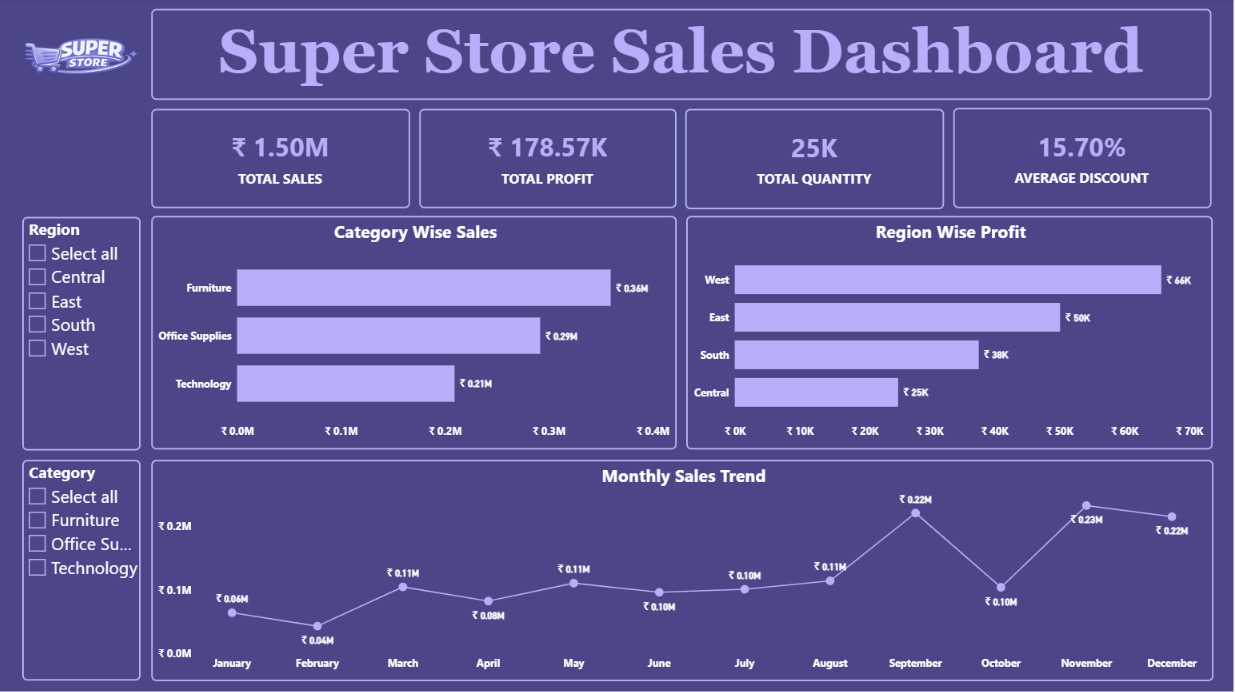

Layout of this report page (visuals, bound fields, positions):
{"tool":"powerbi","page":{"name":"Page 1","canvas":[1920,1080],"ordinal":0},"visuals":[{"type":"cardVisual","fields":{"Data":["Sum(Superstore Dataset.Sales)"]},"box":[237.8,170.8,402,154.1],"z":0},{"type":"cardVisual","fields":{"Data":["Sum(Superstore Dataset.Profit)"]},"box":[654.9,170.8,400.3,154.1],"z":1000},{"type":"cardVisual","fields":{"Data":["Sum(Superstore Dataset.Quantity)"]},"box":[1068.6,170.8,402,155.8],"z":2000},{"type":"cardVisual","fields":{"Data":["Avg(Superstore Dataset.Discount)"]},"box":[1484,169.2,402,155.8],"z":3000},{"type":"clusteredBarChart","title":"Category Wise Sales","fields":{"Category":["Superstore Dataset.Category"],"Y":["Sum(Superstore Dataset.Sales)"]},"box":[238.1,337.6,817,363.6],"z":4000},{"type":"clusteredBarChart","title":"Region Wise Profit","fields":{"Category":["Superstore Dataset.Region"],"Y":["Sum(Superstore Dataset.Profit)"]},"box":[1069.1,337.6,818,363.6],"z":5000},{"type":"slicer","fields":{"Values":["Superstore Dataset.Region"]},"box":[36.8,338.3,184.2,363.5],"z":6000},{"type":"slicer","fields":{"Values":["Superstore Dataset.Category"]},"box":[36.8,716.9,184.2,343.4],"z":7000},{"type":"lineChart","title":"Monthly Sales Trend","fields":{"Category":["Superstore Dataset.Order Date.Variation.Date Hierarchy.Month"],"Y":["Sum(Superstore Dataset.Sales)"]},"box":[238.1,716.3,1651.2,344.1],"z":8000},{"type":"textbox","box":[237.8,15.5,1647.7,141.5],"z":9000},{"type":"image","box":[37.3,21.3,184.8,149.2],"z":9001}]}

Visuals, with their boxes in screenshot pixels (x1, y1, x2, y2), scaled from the page's 1920x1080 canvas onto the 1235x692 screenshot:
cardVisual - Sum(Superstore Dataset.Sales): pyautogui.locateOnScreen(153, 109, 412, 208)
cardVisual - Sum(Superstore Dataset.Profit): pyautogui.locateOnScreen(421, 109, 679, 208)
cardVisual - Sum(Superstore Dataset.Quantity): pyautogui.locateOnScreen(687, 109, 946, 209)
cardVisual - Avg(Superstore Dataset.Discount): pyautogui.locateOnScreen(955, 108, 1213, 208)
"Category Wise Sales" clusteredBarChart: pyautogui.locateOnScreen(153, 216, 679, 449)
"Region Wise Profit" clusteredBarChart: pyautogui.locateOnScreen(688, 216, 1214, 449)
slicer - Superstore Dataset.Region: pyautogui.locateOnScreen(24, 217, 142, 450)
slicer - Superstore Dataset.Category: pyautogui.locateOnScreen(24, 459, 142, 679)
"Monthly Sales Trend" lineChart: pyautogui.locateOnScreen(153, 459, 1215, 679)
textbox: pyautogui.locateOnScreen(153, 10, 1213, 101)
image: pyautogui.locateOnScreen(24, 14, 143, 109)
